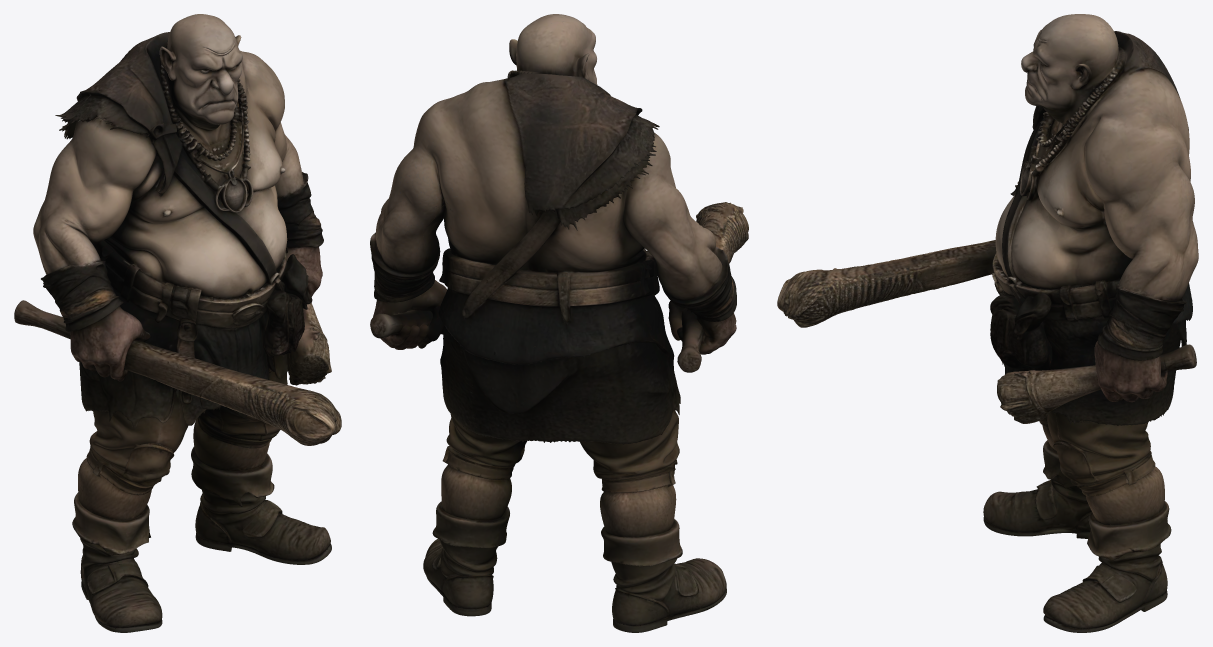
Rendered from ogre.glb.
The picture shows the model from 3 angles, left to right: view 1: azimuth 30°, elevation 25°; view 2: azimuth 150°, elevation 25°; view 3: azimuth 270°, elevation 25°; orthographic projection. The views are drawn at different scales.
Visible parts, largest first — view 1: material; view 2: material; view 3: material.
Boxes of the visible parts, x1,y1,x2,y2 form: material: (14, 14, 341, 632); material: (370, 14, 748, 632); material: (777, 14, 1198, 632).
Bounding box in the file's own units: 0.591 × 1.03 × 0.6993.
Materials: 1 (1 with a texture image).
